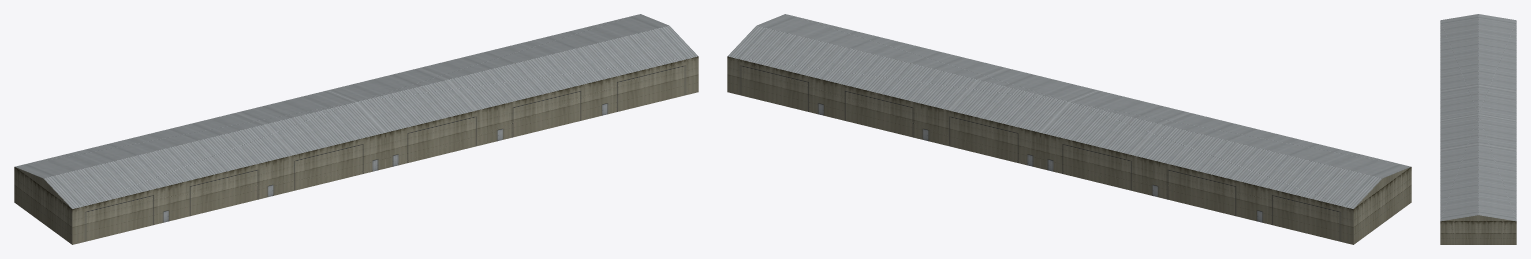
The model's file is Hangar2.gltf.
3 renders of one model, left to right at view 1: azimuth 30°, elevation 25°; view 2: azimuth 150°, elevation 25°; view 3: azimuth 270°, elevation 25°, orthographic. The views are drawn at different scales.
Parts seen in each view (by area): view 1: Hangar2; view 2: Hangar2; view 3: Hangar2.
Part boxes in pixels (x1,y1,x2,y2): Hangar2: (14, 14, 698, 244); Hangar2: (727, 14, 1411, 244); Hangar2: (1440, 14, 1516, 244).
Size of the model in its own units: 138 by 9.5 by 22.06.
1 material, 1 textured.
